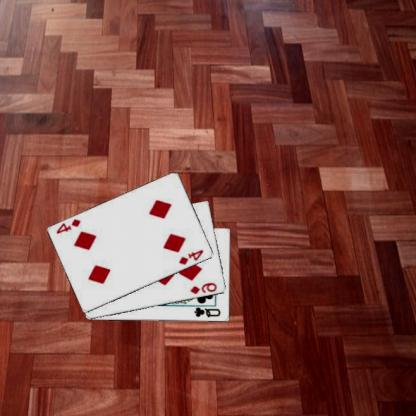4D: (178, 247, 207, 266), (56, 216, 84, 235)
9D: (190, 280, 220, 295)
QC: (193, 304, 224, 318)
